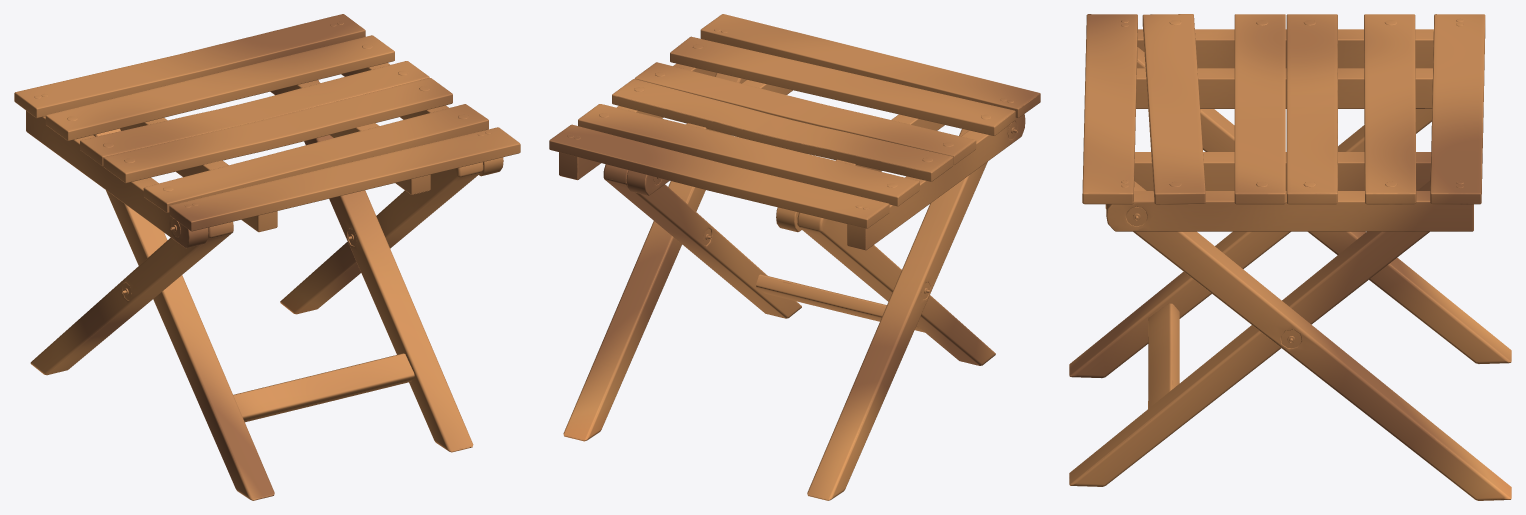
File: folding_wooden_stool_2k.fbx
The picture shows the model from 3 angles, left to right: view 1: azimuth 30°, elevation 25°; view 2: azimuth 150°, elevation 25°; view 3: azimuth 270°, elevation 25°; orthographic projection. The views are drawn at different scales.
Visible parts, largest first — view 1: folding_wooden_stool; view 2: folding_wooden_stool; view 3: folding_wooden_stool.
Part boxes in pixels (bbox=[...]): folding_wooden_stool: bbox=[14, 14, 520, 500]; folding_wooden_stool: bbox=[549, 14, 1040, 500]; folding_wooden_stool: bbox=[1069, 14, 1511, 500].
Bounding box in the file's own units: 52.78 × 44.2 × 54.71.
Materials: 1 (1 with a texture image).
